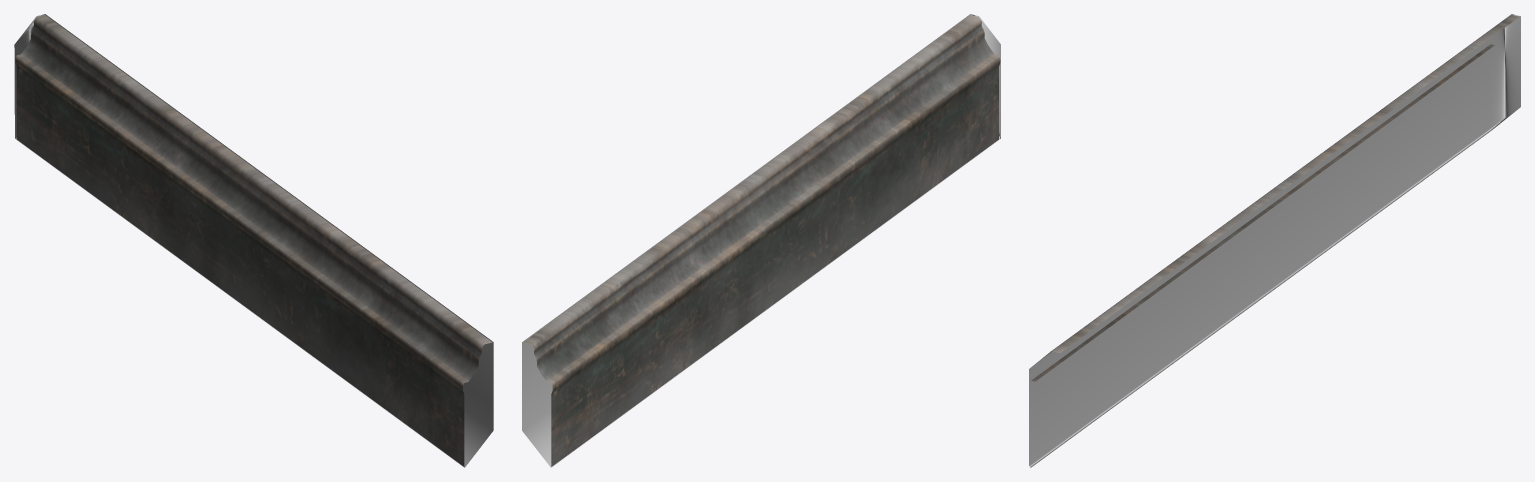
File: SM_Skirting.gltf
3 renders of one model, left to right at view 1: azimuth 30°, elevation 25°; view 2: azimuth 150°, elevation 25°; view 3: azimuth 330°, elevation 25°, orthographic. The views are drawn at different scales.
Visible parts, largest first — view 1: SM_Skirting_LOD0, SM_Skirting_ConvexHulls; view 2: SM_Skirting_LOD0, SM_Skirting_ConvexHulls; view 3: SM_Skirting_ConvexHulls, SM_Skirting_LOD0.
Boxes of the visible parts, x1,y1,x2,y2 form: SM_Skirting_LOD0: (15,15,492,466); SM_Skirting_ConvexHulls: (14,14,493,467); SM_Skirting_LOD0: (523,15,1000,466); SM_Skirting_ConvexHulls: (522,14,1000,467); SM_Skirting_ConvexHulls: (1029,14,1520,467); SM_Skirting_LOD0: (1031,14,1519,381).
Size of what is drawn, in the model's own units: 0.0587 by 0.2159 by 1.48.
